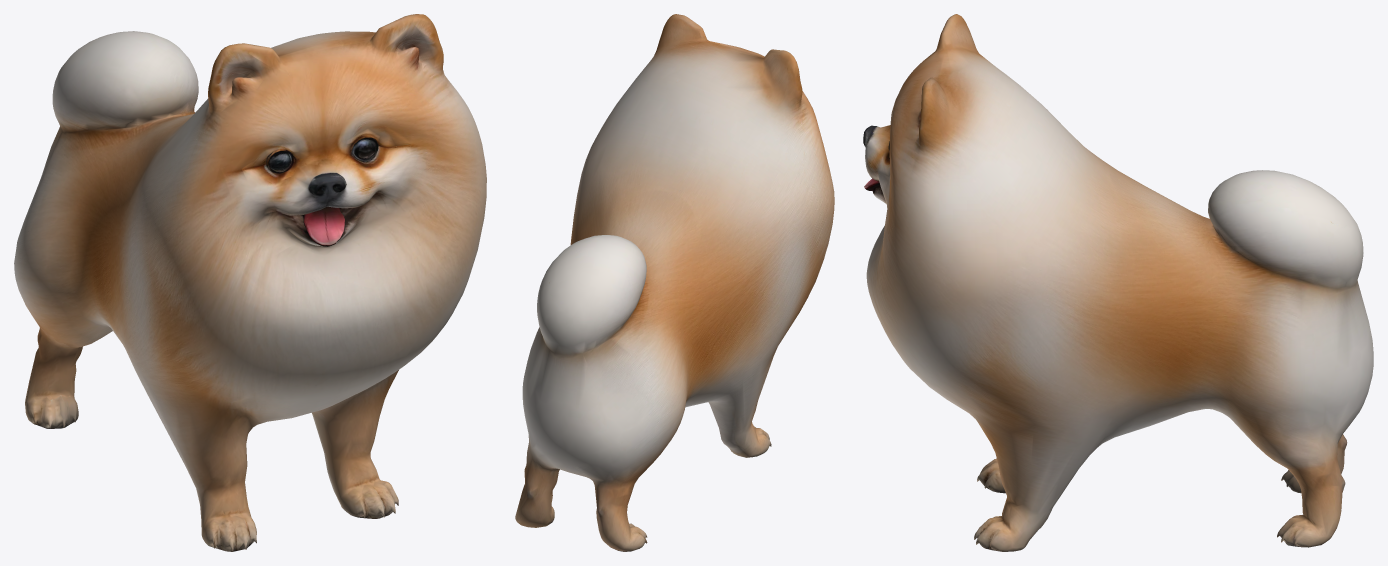
The model's file is pomeranian.glb.
3 views of the same model, side by side, from view 1: azimuth 30°, elevation 25°; view 2: azimuth 150°, elevation 25°; view 3: azimuth 270°, elevation 25° (orthographic). The views are drawn at different scales.
Visible parts, largest first — view 1: node_0; view 2: node_0; view 3: node_0.
Part boxes in pixels (bbox=[...]): node_0: bbox=[14, 14, 486, 551]; node_0: bbox=[515, 14, 834, 551]; node_0: bbox=[863, 14, 1373, 551].
Bounding box in the file's own units: 0.5538 × 0.9029 × 0.8996.
1 material, 1 textured.
